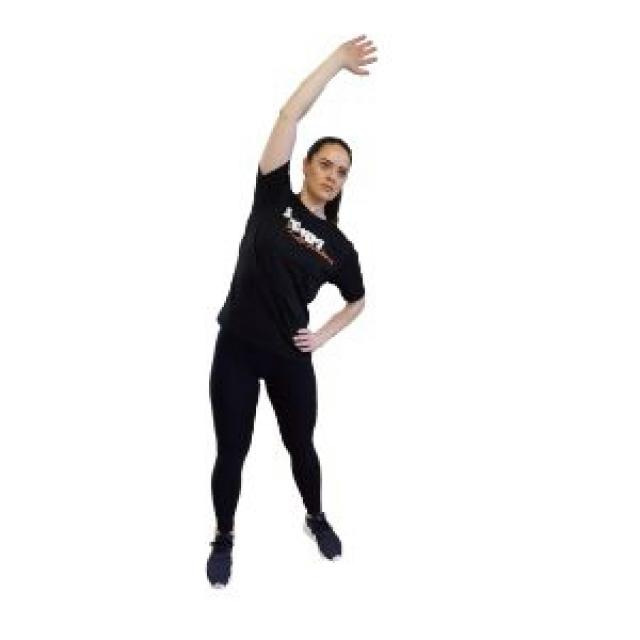adult: (207, 104, 369, 572)
